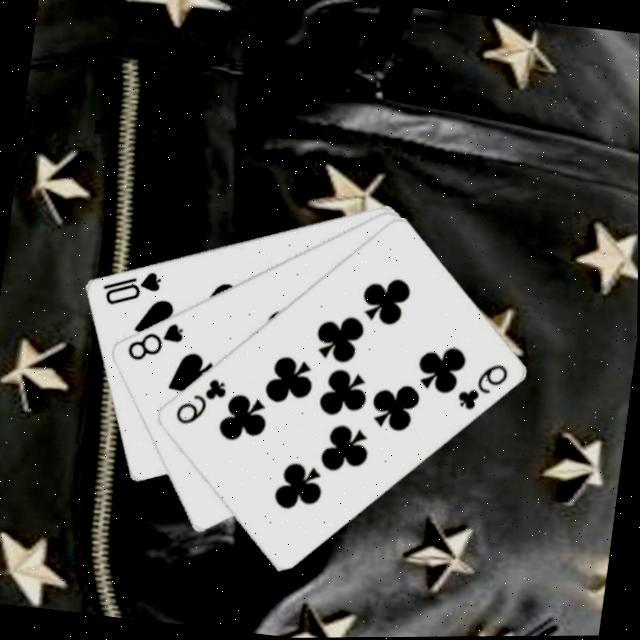10S: (95, 262, 164, 312)
8S: (120, 314, 185, 369)
9C: (168, 372, 229, 432), (449, 357, 509, 418)
